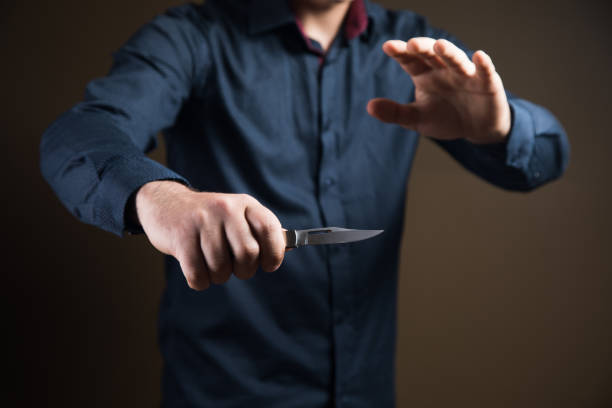knife: (283, 223, 386, 250)
